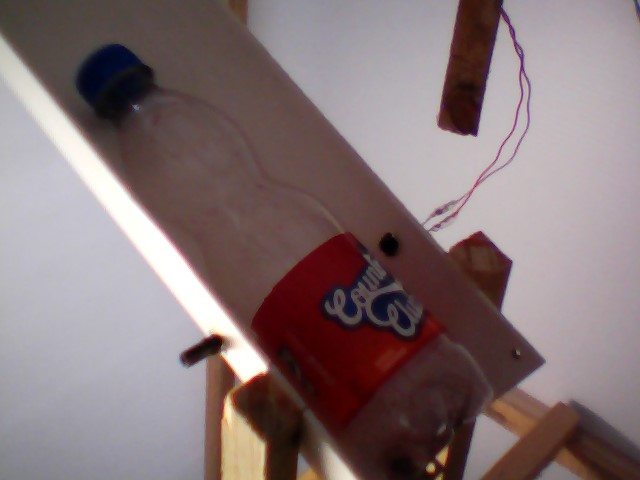plastico: (70, 41, 499, 480)
